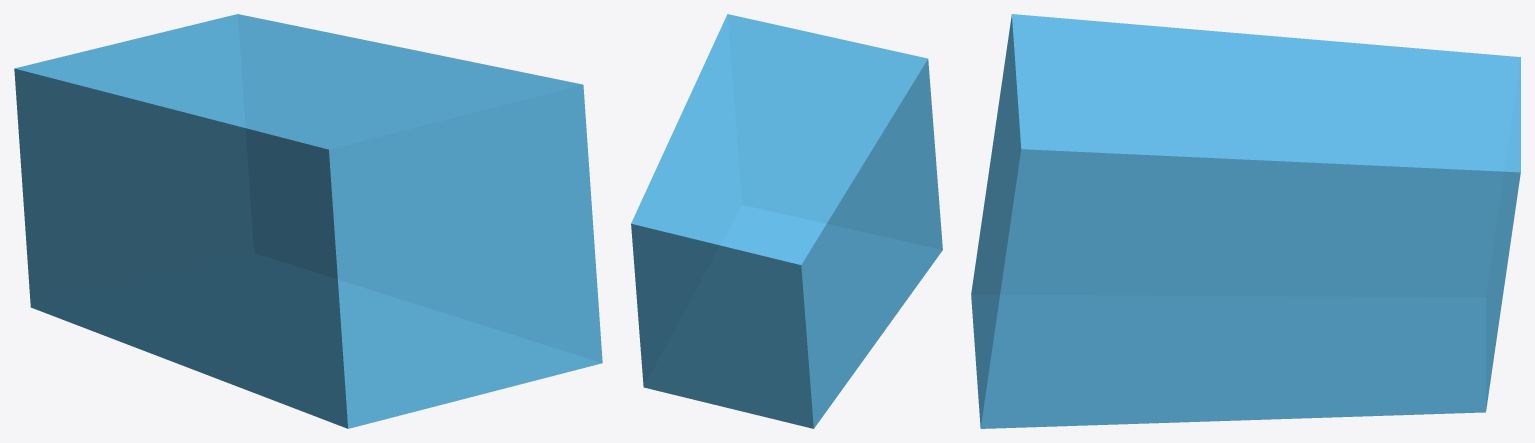
File: Event_420107950_HBrechit_16.fbx
The picture shows the model from 3 angles, left to right: view 1: azimuth 30°, elevation 25°; view 2: azimuth 150°, elevation 25°; view 3: azimuth 270°, elevation 25°; orthographic projection. The views are drawn at different scales.
Parts seen in each view (by area): view 1: Model; view 2: Model; view 3: Model.
Boxes of the visible parts, <box> form: Model: <box>14,14,602,428</box>; Model: <box>631,14,942,428</box>; Model: <box>971,14,1520,428</box>.
Bounding box in the file's own units: 0.6116 × 0.5332 × 0.8266.
